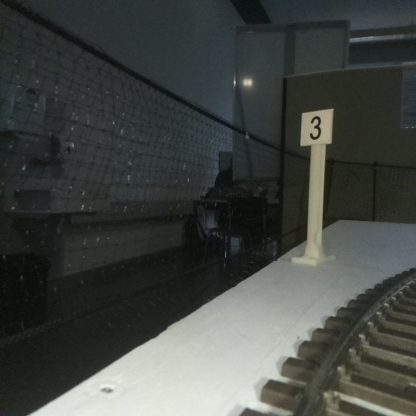white-info-3: (301, 108, 333, 263)
